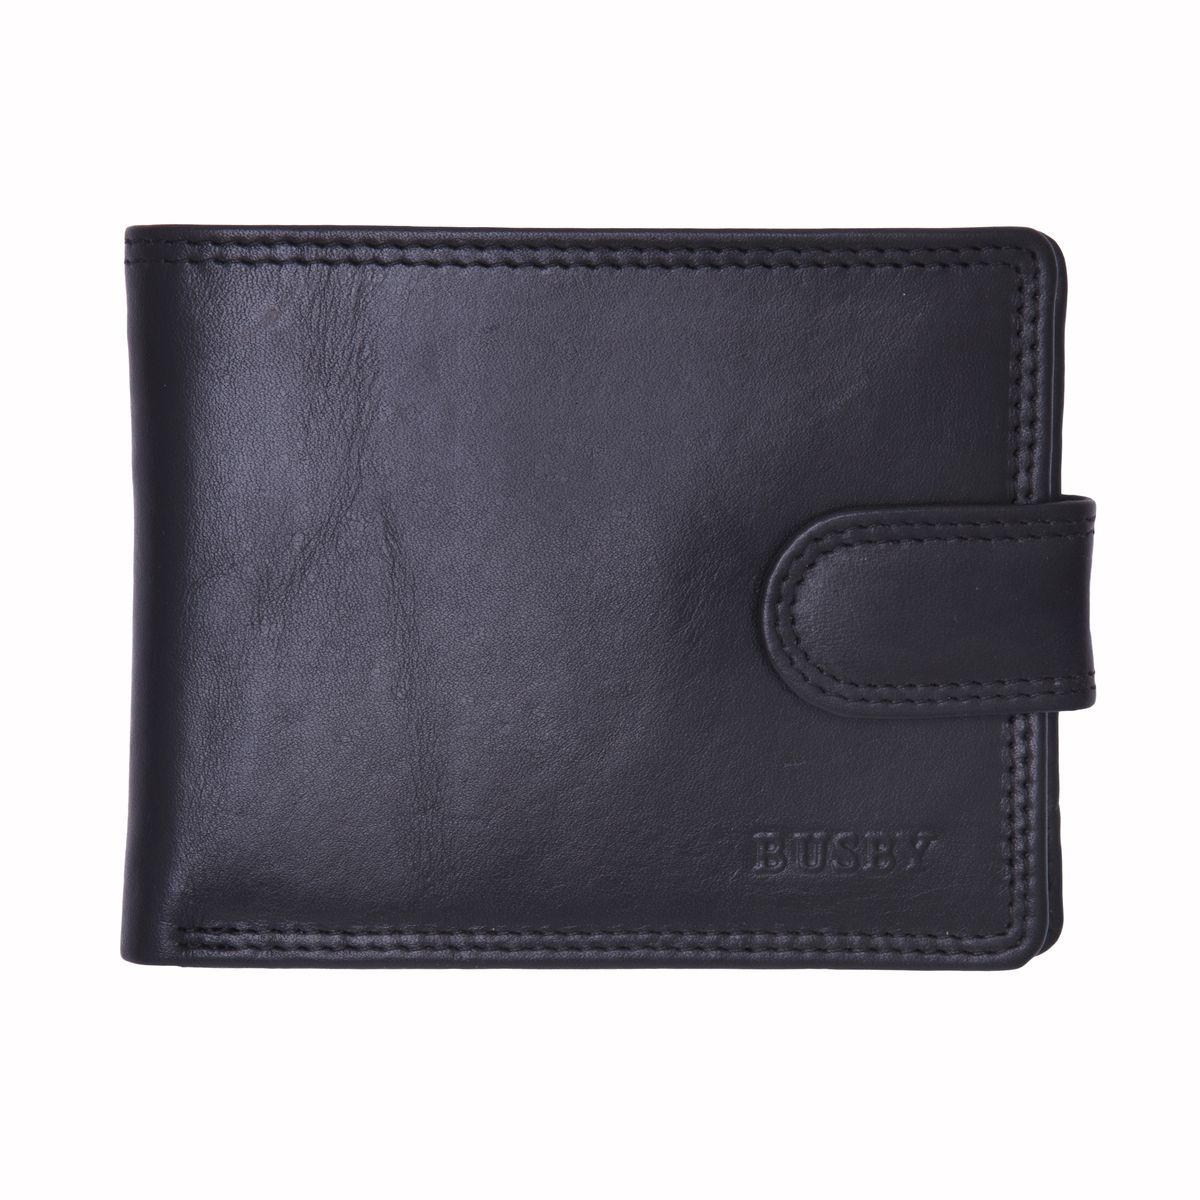monedero: (118, 220, 1105, 974)
